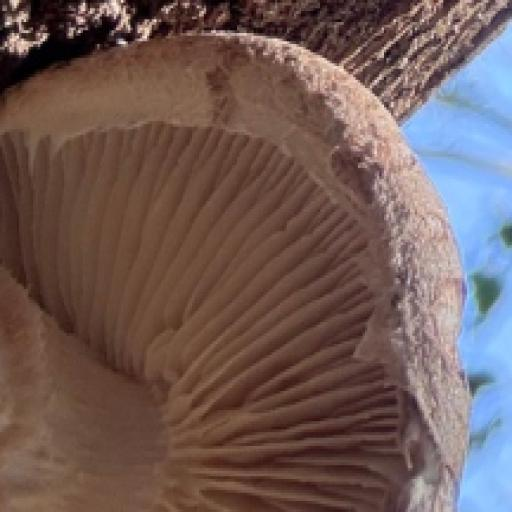Shiitake Mushroom: (4, 43, 467, 509)
